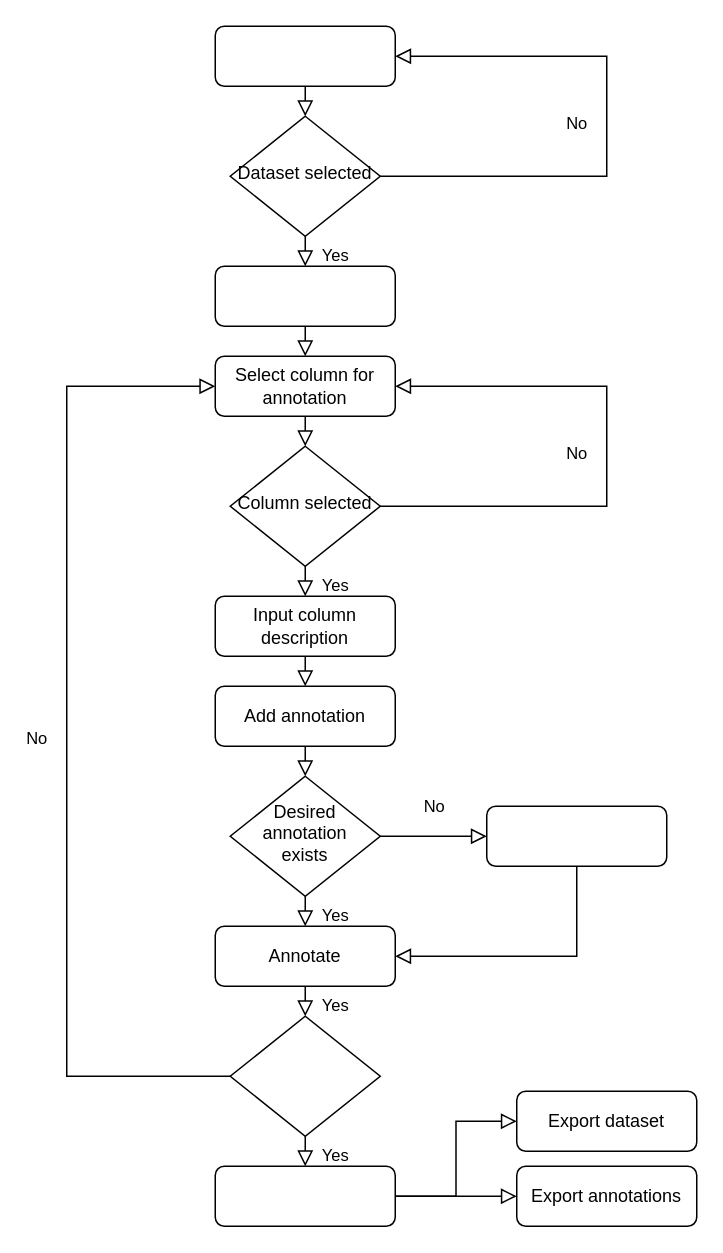
Image size: 723x1253. Some labels were removed from this diagram. The shapes that lost their labels are listed below. From the top down, each one's centre as x and y in pixels, then its label:
pixel 304 55: Select dataset
pixel 304 295: Input dataset description
pixel 576 835: Create desired annotation
pixel 304 1075: All desired columns annotated
pixel 304 1195: Save changes
